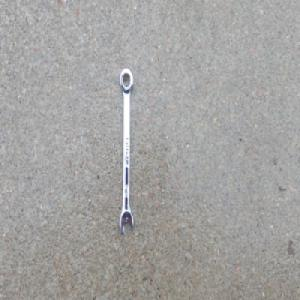Wrench: (117, 66, 133, 235)
